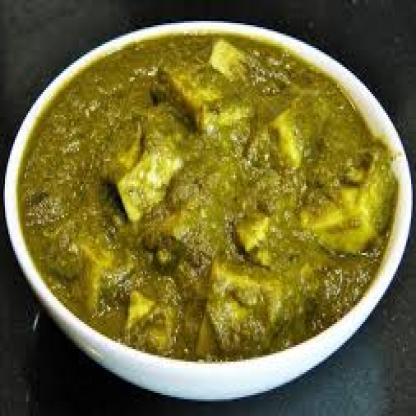palak_paneer: (17, 32, 398, 363)
